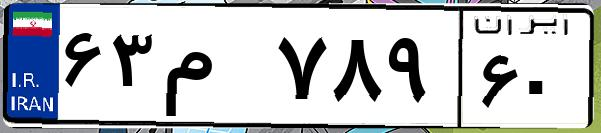0: (525, 38, 570, 115)
3: (110, 28, 158, 98)
6: (57, 26, 110, 100), (475, 38, 525, 113)
7: (270, 28, 330, 110)
8: (330, 28, 385, 110)
9: (385, 28, 445, 110)
م: (158, 20, 270, 120)
